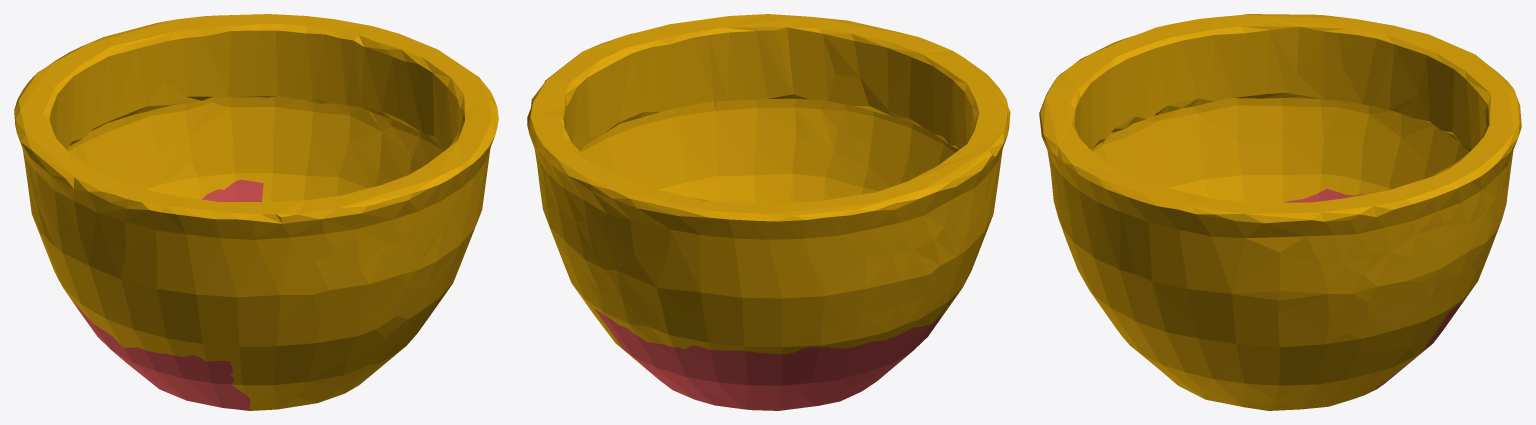
Rendered from fractured_8_2pcs.glb.
The picture shows the model from 3 angles, left to right: view 1: azimuth 30°, elevation 25°; view 2: azimuth 150°, elevation 25°; view 3: azimuth 270°, elevation 25°; orthographic projection.
Parts seen in each view (by area): view 1: piece_0.obj, piece_1.obj; view 2: piece_0.obj, piece_1.obj; view 3: piece_0.obj, piece_1.obj.
Boxes of the visible parts, x1,y1,x2,y2 form: piece_0.obj: (14,14,498,410); piece_1.obj: (70,179,263,410); piece_0.obj: (527,14,1010,368); piece_1.obj: (595,309,941,410); piece_0.obj: (1039,14,1521,410); piece_1.obj: (1285,189,1469,391).
Size of the model in its own units: 1 by 0.5684 by 0.999.
